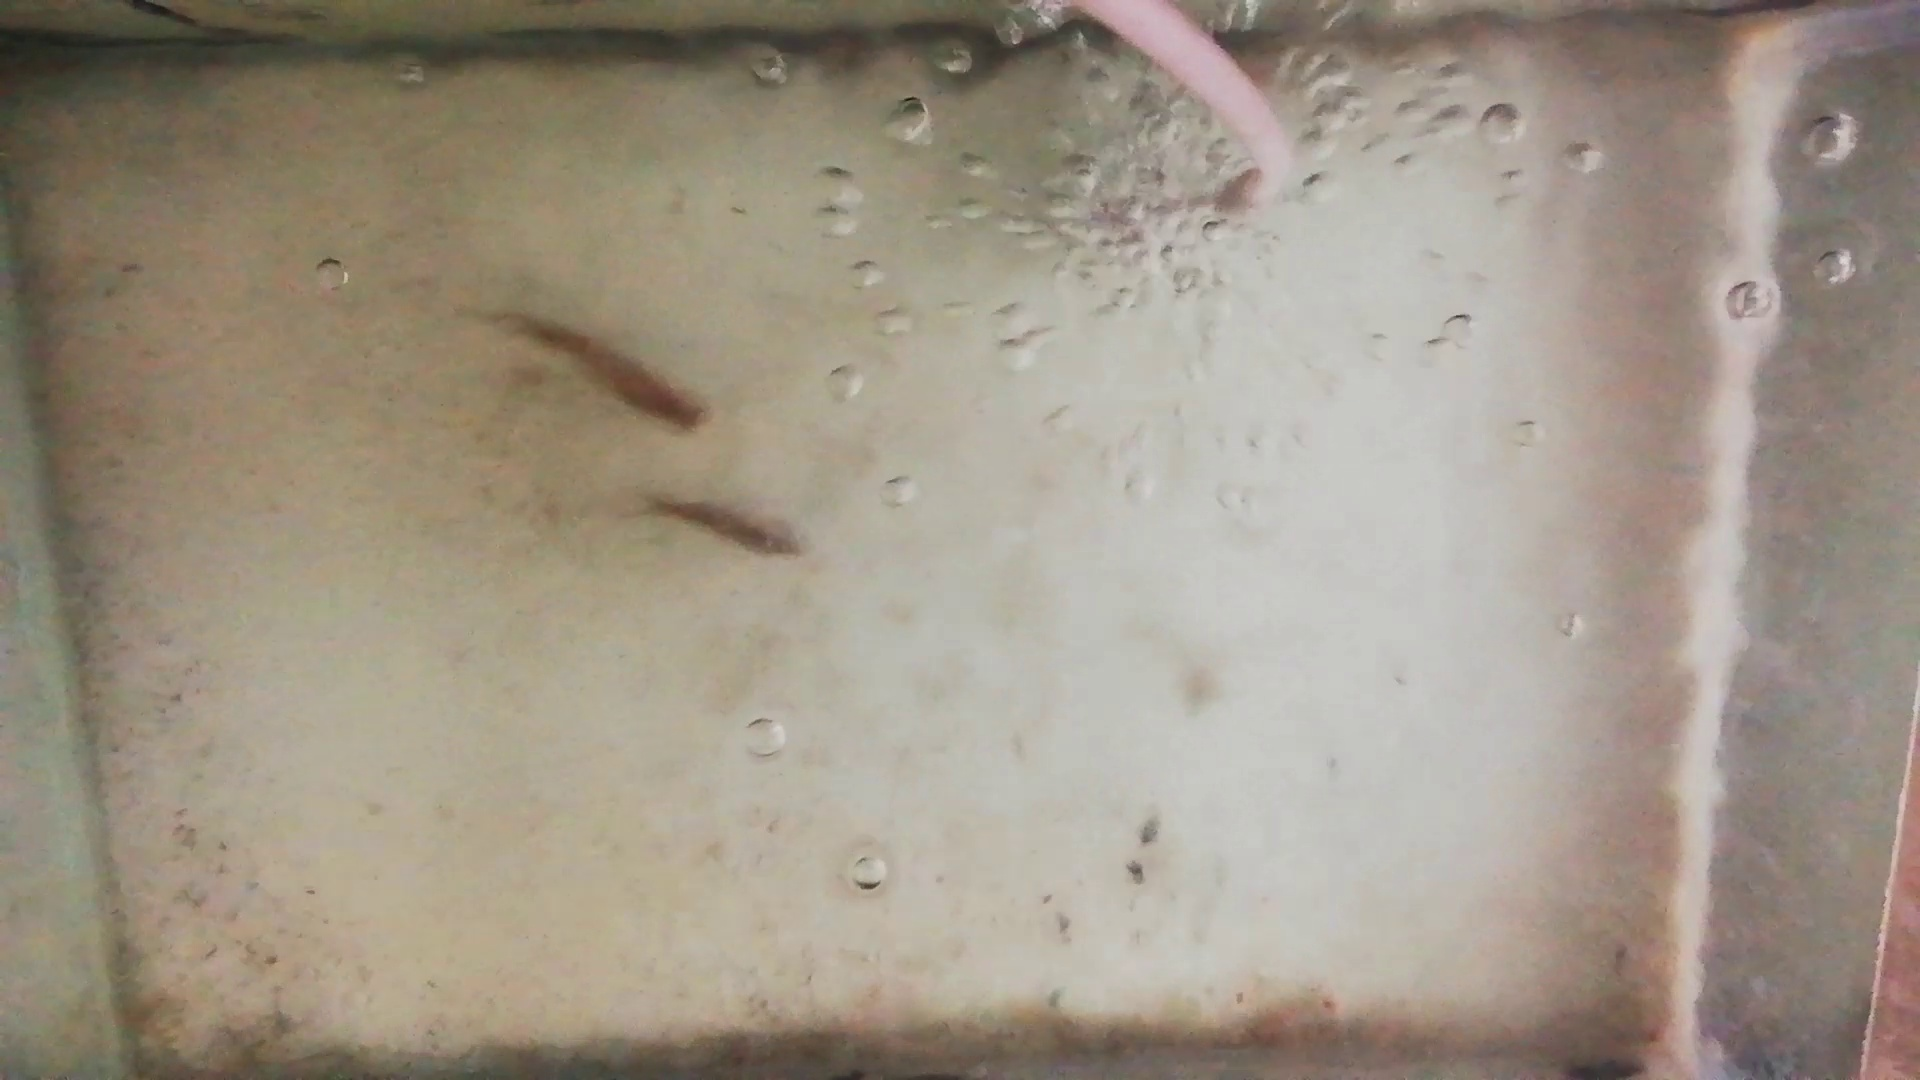fish: (473, 310, 709, 433), (650, 498, 804, 560)
